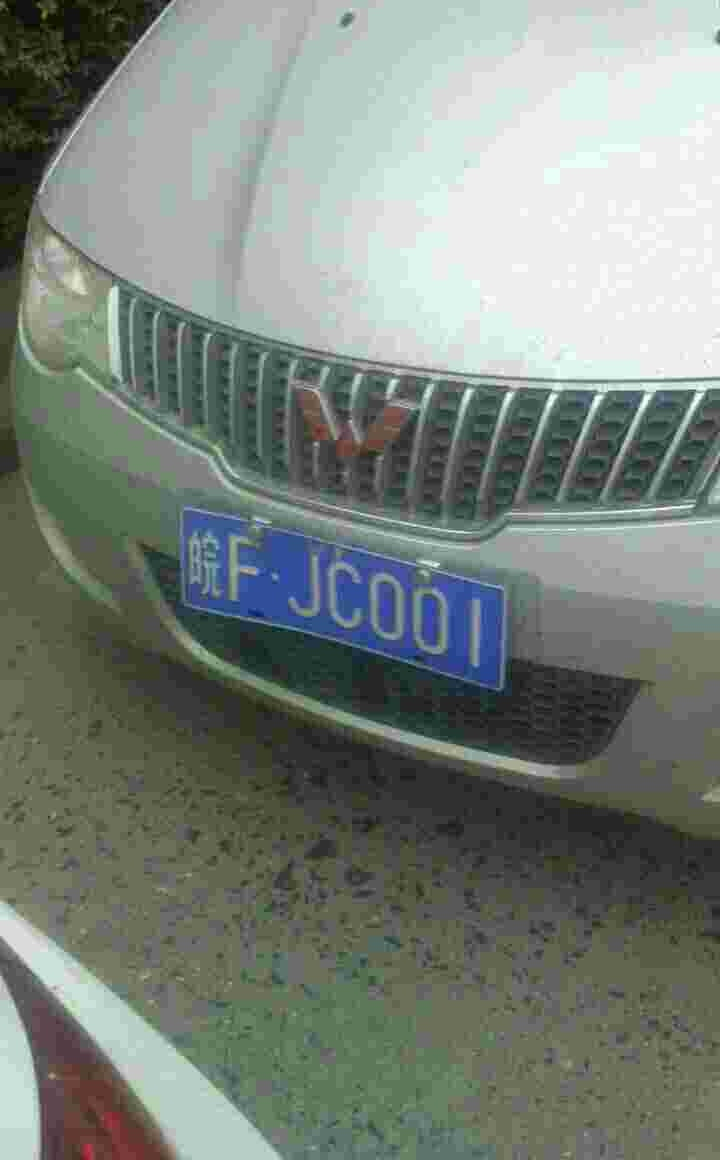license_plate: (177, 502, 522, 678)
